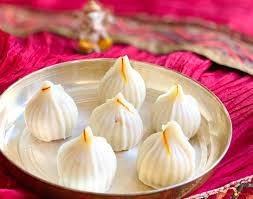modak: (57, 126, 122, 196), (137, 121, 201, 188), (84, 88, 149, 151), (22, 76, 84, 141), (89, 49, 156, 107), (151, 82, 206, 143)
